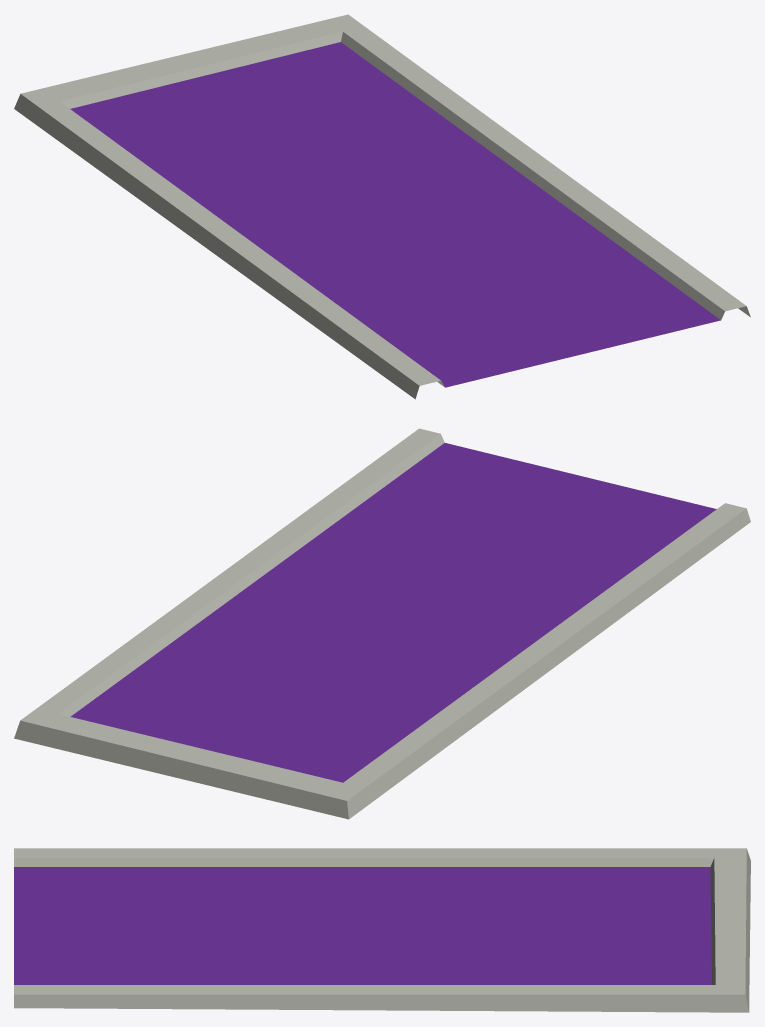
File: ParkRoad_5_A.fbx
3 renders of one model, top to bottom at view 1: azimuth 30°, elevation 25°; view 2: azimuth 150°, elevation 25°; view 3: azimuth 270°, elevation 25°, orthographic. The views are drawn at different scales.
Parts seen in each view (by area): view 1: ParkRoad_5_A; view 2: ParkRoad_5_A; view 3: ParkRoad_5_A.
Boxes of the visible parts, x1,y1,x2,y2 form: ParkRoad_5_A: [14, 14, 750, 399]; ParkRoad_5_A: [14, 428, 750, 819]; ParkRoad_5_A: [14, 848, 750, 1012].
Bounding box in the file's own units: 200 × 9.99 × 415.
